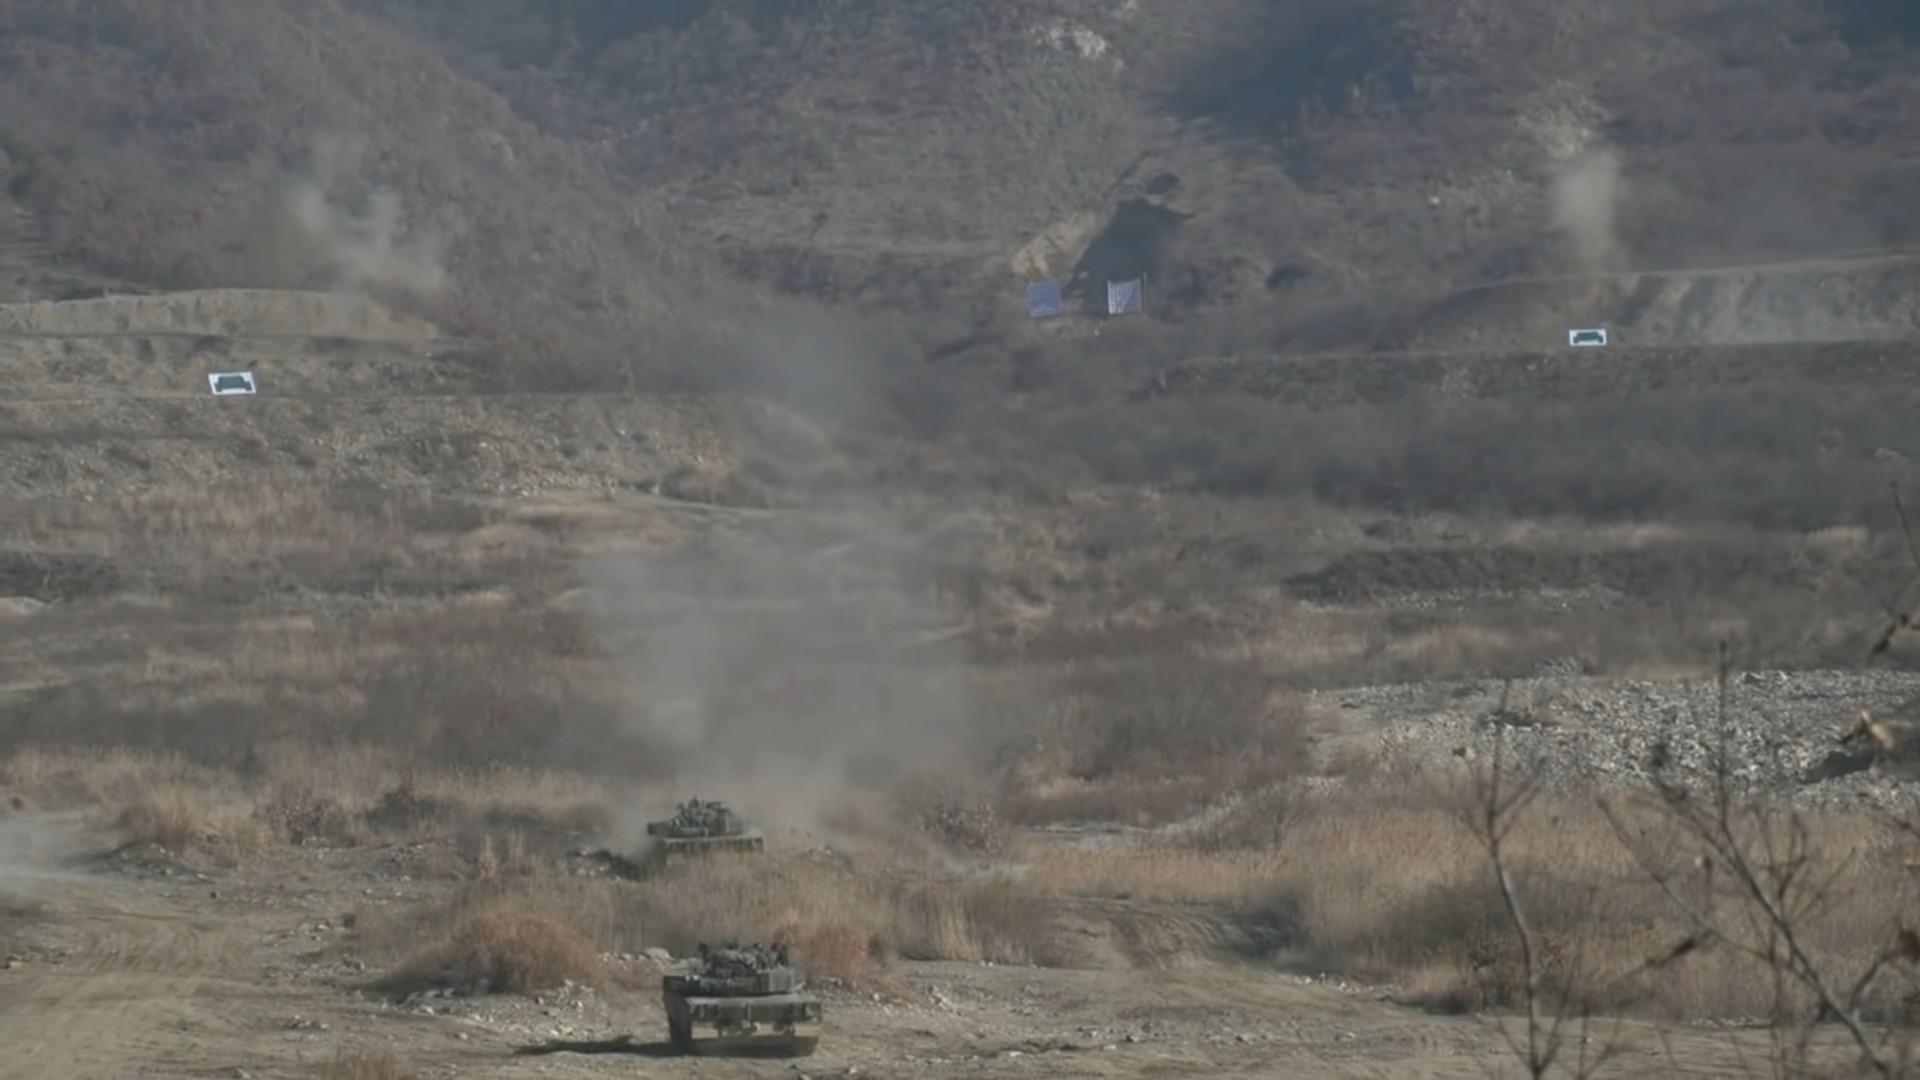tank: (662, 943, 823, 1058), (646, 796, 765, 880)
